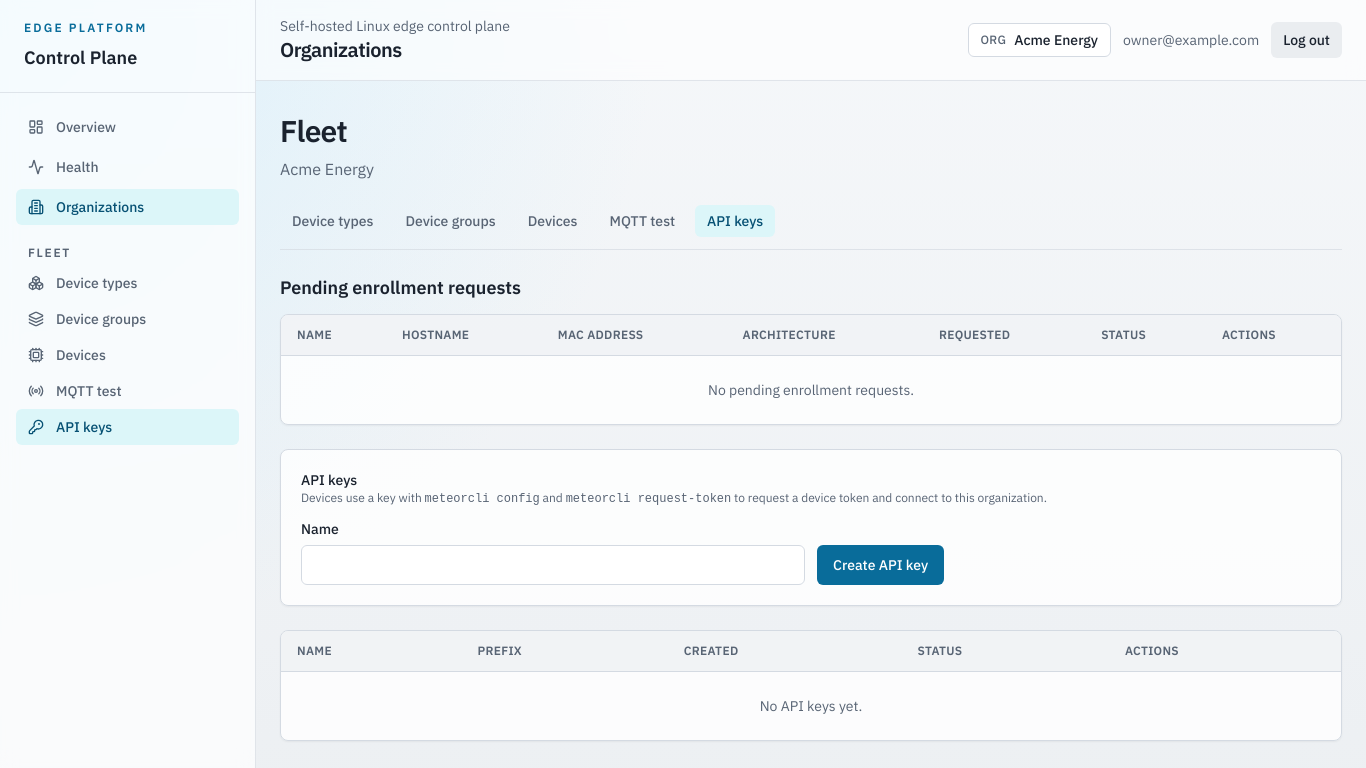
Test: API keys › creates an API key and shows the plaintext once
Step 1. Type "Field techs" into the field labelled "Name" → (553, 565), box [301,545,805,585]
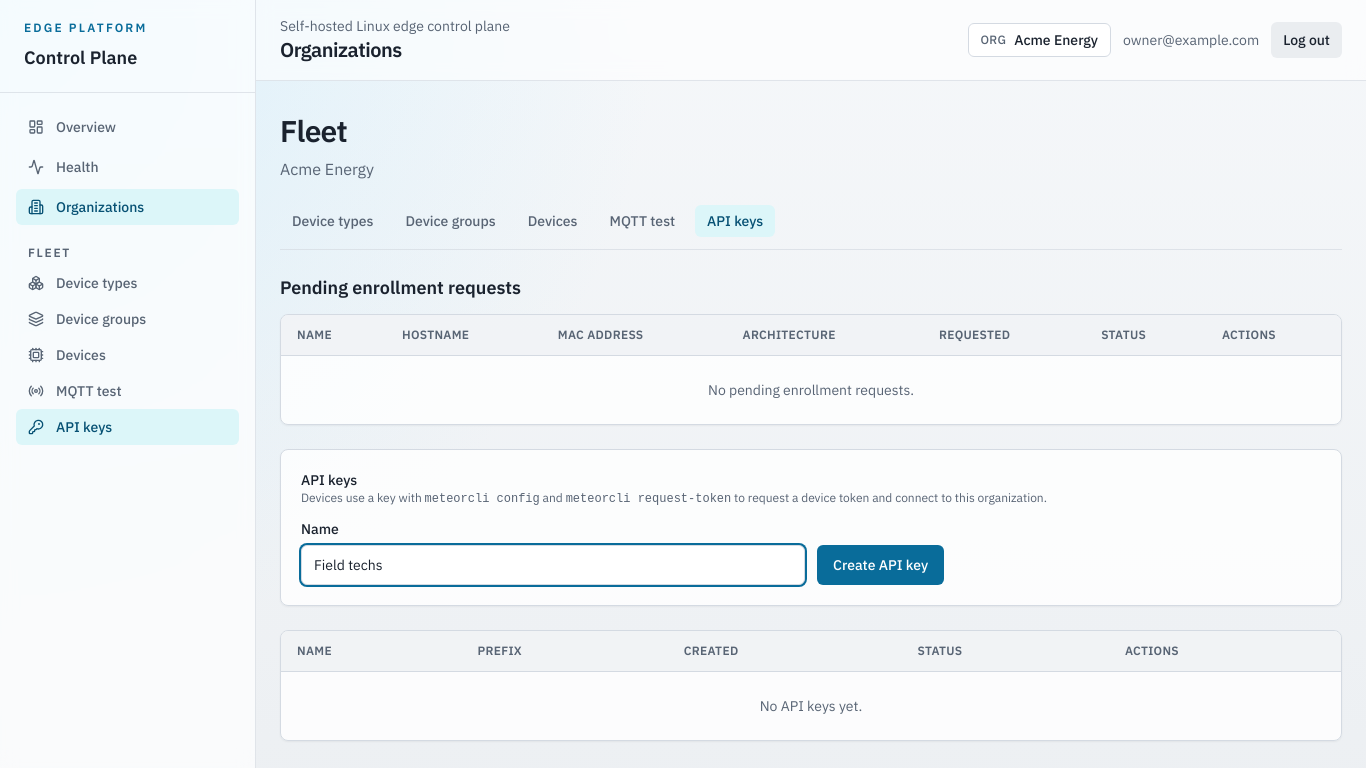
Step 2. Click the button "Create API key" → (881, 565), box [817,545,944,585]
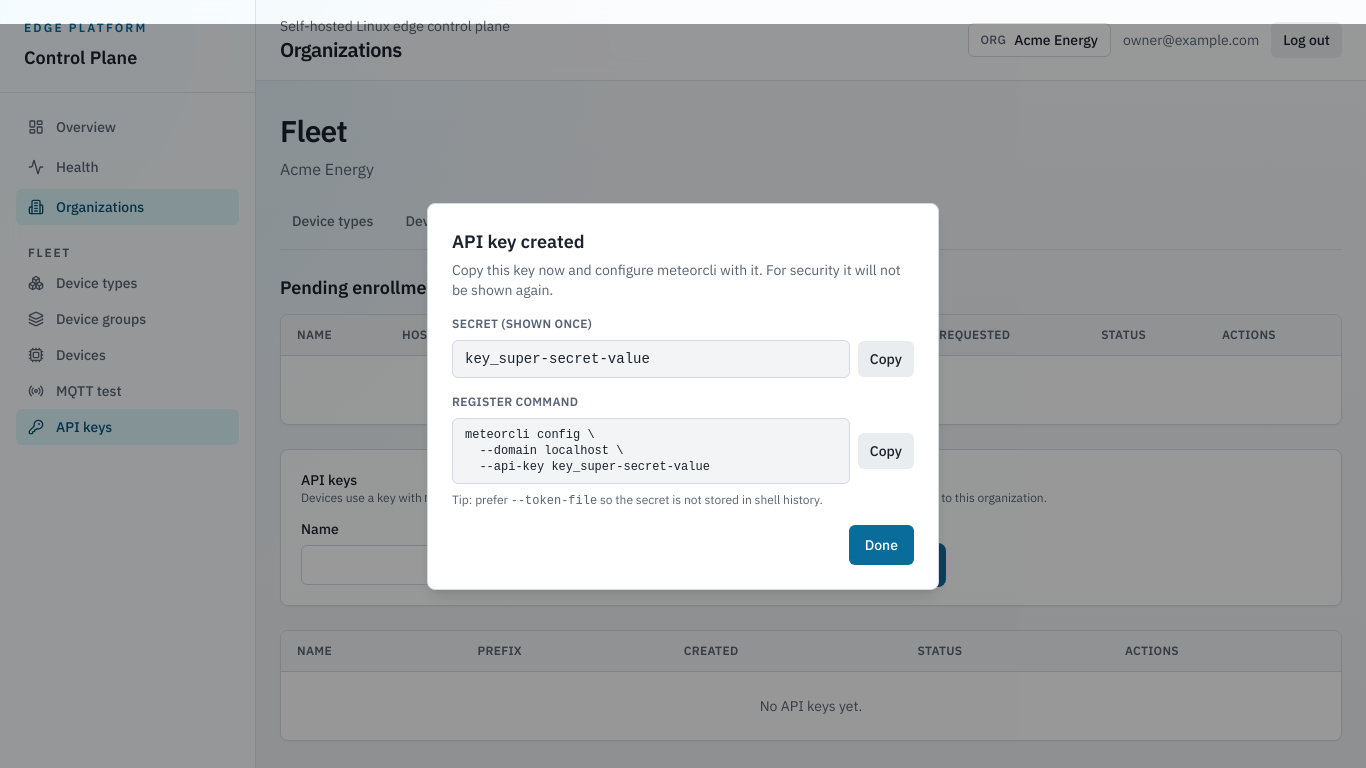
Expected: the text "key_super-secret-value" is shown, [452,340,850,378]
